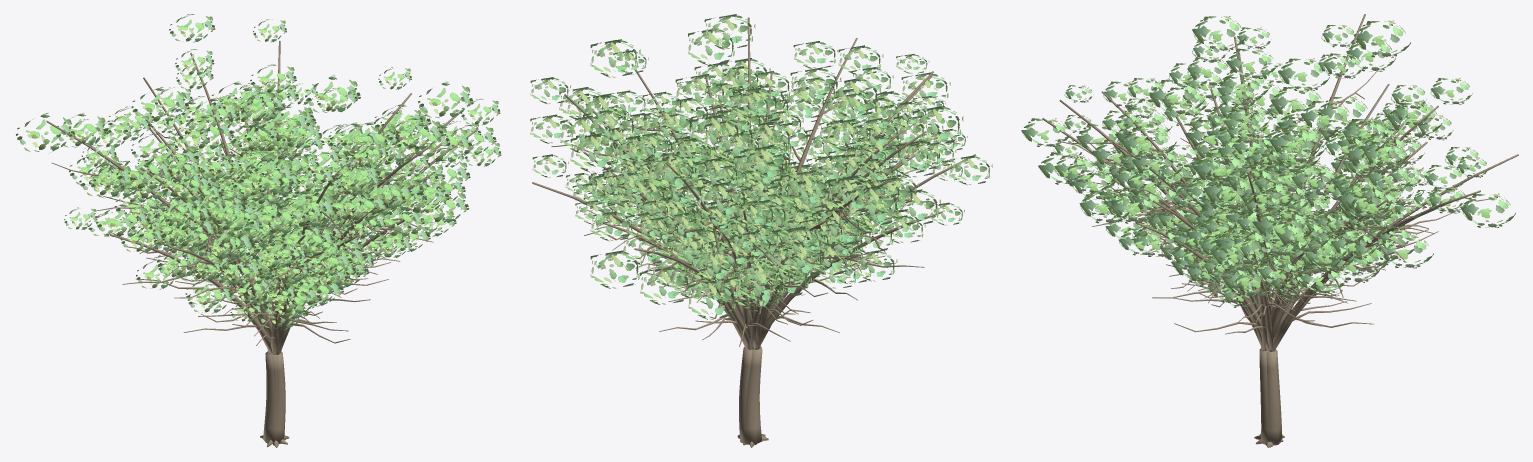
The model's file is honeylocust.glb.
The picture shows the model from 3 angles, left to right: view 1: azimuth 30°, elevation 25°; view 2: azimuth 150°, elevation 25°; view 3: azimuth 270°, elevation 25°; orthographic projection. The views are drawn at different scales.
Parts seen in each view (by area): view 1: HoneylocustTree_2, HoneylocustTree_4, HoneylocustTree_1, HoneylocustTree_5, HoneylocustTree_3; view 2: HoneylocustTree_4, HoneylocustTree_2, HoneylocustTree_5, HoneylocustTree_1, HoneylocustTree_3; view 3: HoneylocustTree_4, HoneylocustTree_2, HoneylocustTree_5, HoneylocustTree_1, HoneylocustTree_3.
Boxes of the visible parts, <box> form: HoneylocustTree_2: <box>16,82,481,445</box>; HoneylocustTree_4: <box>69,19,473,447</box>; HoneylocustTree_1: <box>64,98,500,445</box>; HoneylocustTree_5: <box>92,75,501,444</box>; HoneylocustTree_3: <box>144,14,429,447</box>; HoneylocustTree_4: <box>532,14,992,444</box>; HoneylocustTree_2: <box>530,38,942,332</box>; HoneylocustTree_5: <box>559,58,963,445</box>; HoneylocustTree_1: <box>530,67,967,447</box>; HoneylocustTree_3: <box>583,67,901,445</box>; HoneylocustTree_4: <box>1057,63,1518,447</box>; HoneylocustTree_2: <box>1070,14,1442,445</box>; HoneylocustTree_5: <box>1021,16,1468,446</box>; HoneylocustTree_1: <box>1038,63,1453,447</box>; HoneylocustTree_3: <box>1080,48,1472,445</box>.
Bounding box in the file's own units: 6.28 × 5.07 × 6.23.
Materials: 2 (1 with a texture image).
